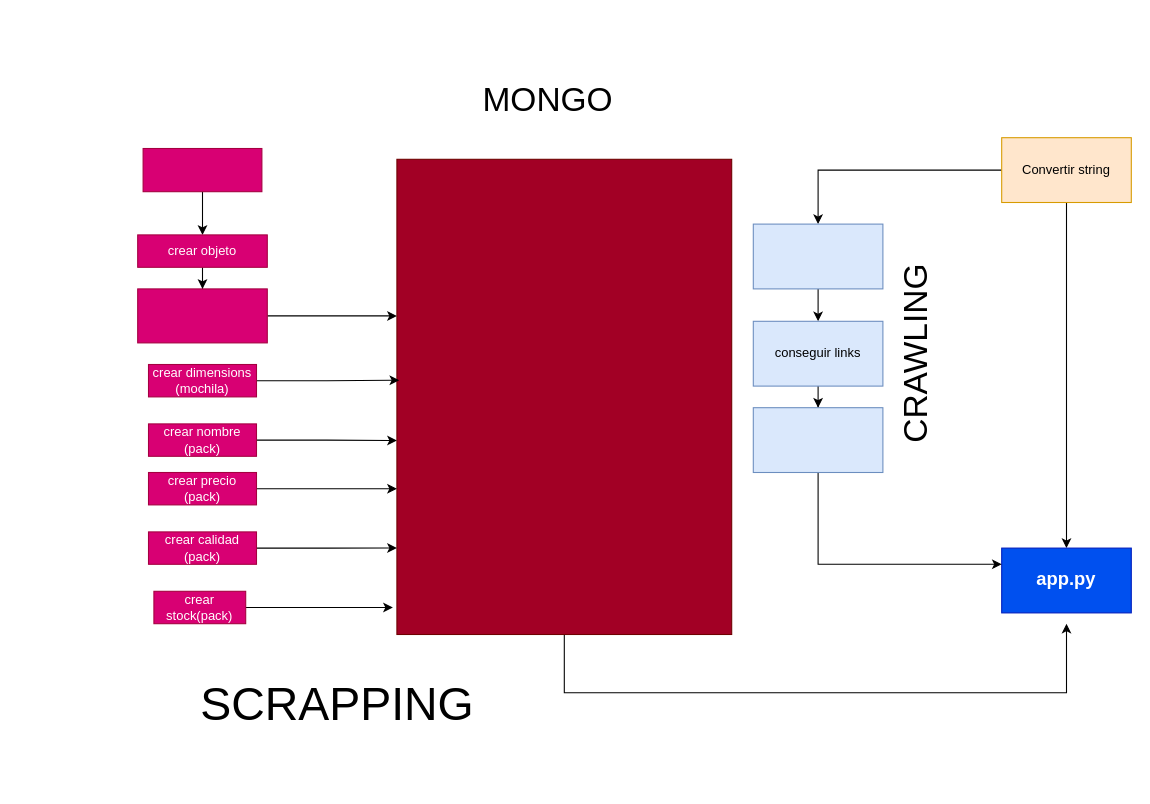
Image size: 1150x804. Some labels were removed from this diagram. The shapes that lost their labels are listed below. From the top down, each one's centre as x and y in pixels, then its label:
At (202,169): "crear características (de un objeto)".
At (817,256): "Localizar links".
At (202,315): "crear contenidos (objetos de la mochila)".
At (564,396): "Crear paquetes (módulo que junta todos los componentes y se los envía a MongoDB)".
At (817,440): "crawl_web".
